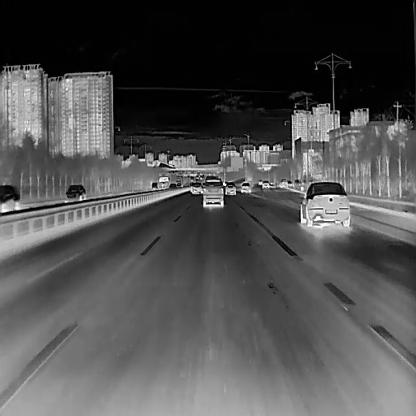car: (298, 180, 349, 225), (202, 177, 222, 208), (0, 184, 20, 211), (64, 184, 84, 199), (224, 182, 236, 194), (190, 182, 203, 193), (240, 182, 249, 192), (261, 180, 269, 188)
truck: (157, 176, 169, 190)
